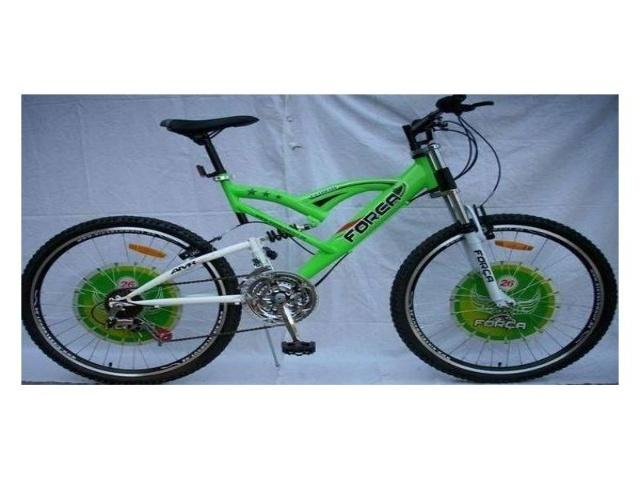bike: (21, 96, 615, 383)
